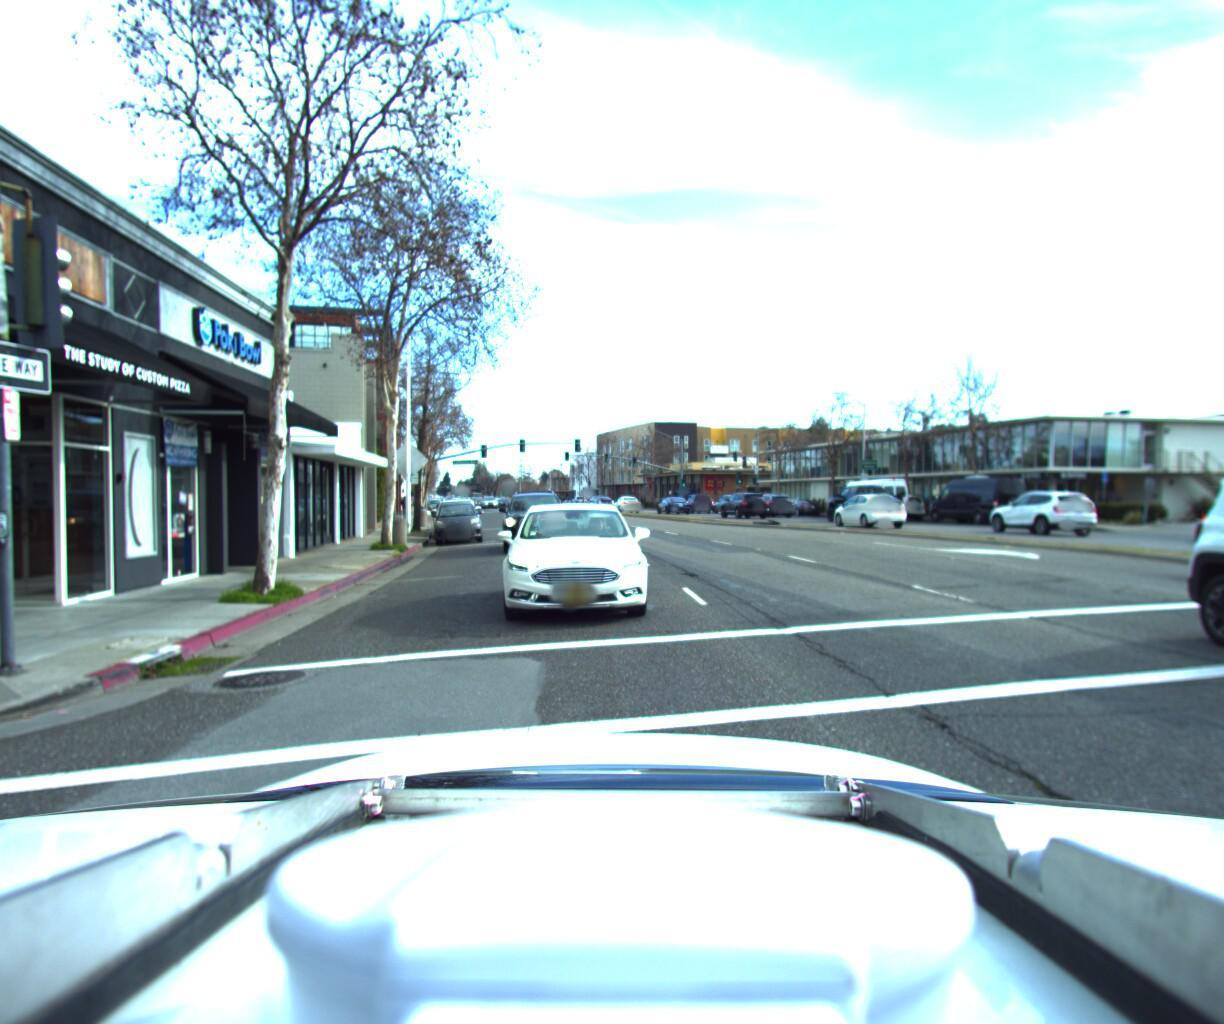car: (494, 491, 655, 628), (926, 466, 1032, 519), (979, 483, 1093, 529), (499, 486, 563, 550), (827, 472, 910, 517), (822, 487, 899, 521), (433, 495, 483, 539), (870, 485, 929, 516), (432, 491, 479, 529), (713, 485, 768, 513), (742, 485, 790, 509), (778, 492, 822, 513), (1222, 412, 1224, 785), (674, 484, 709, 504), (654, 487, 688, 505), (608, 488, 637, 506), (587, 487, 614, 503)
